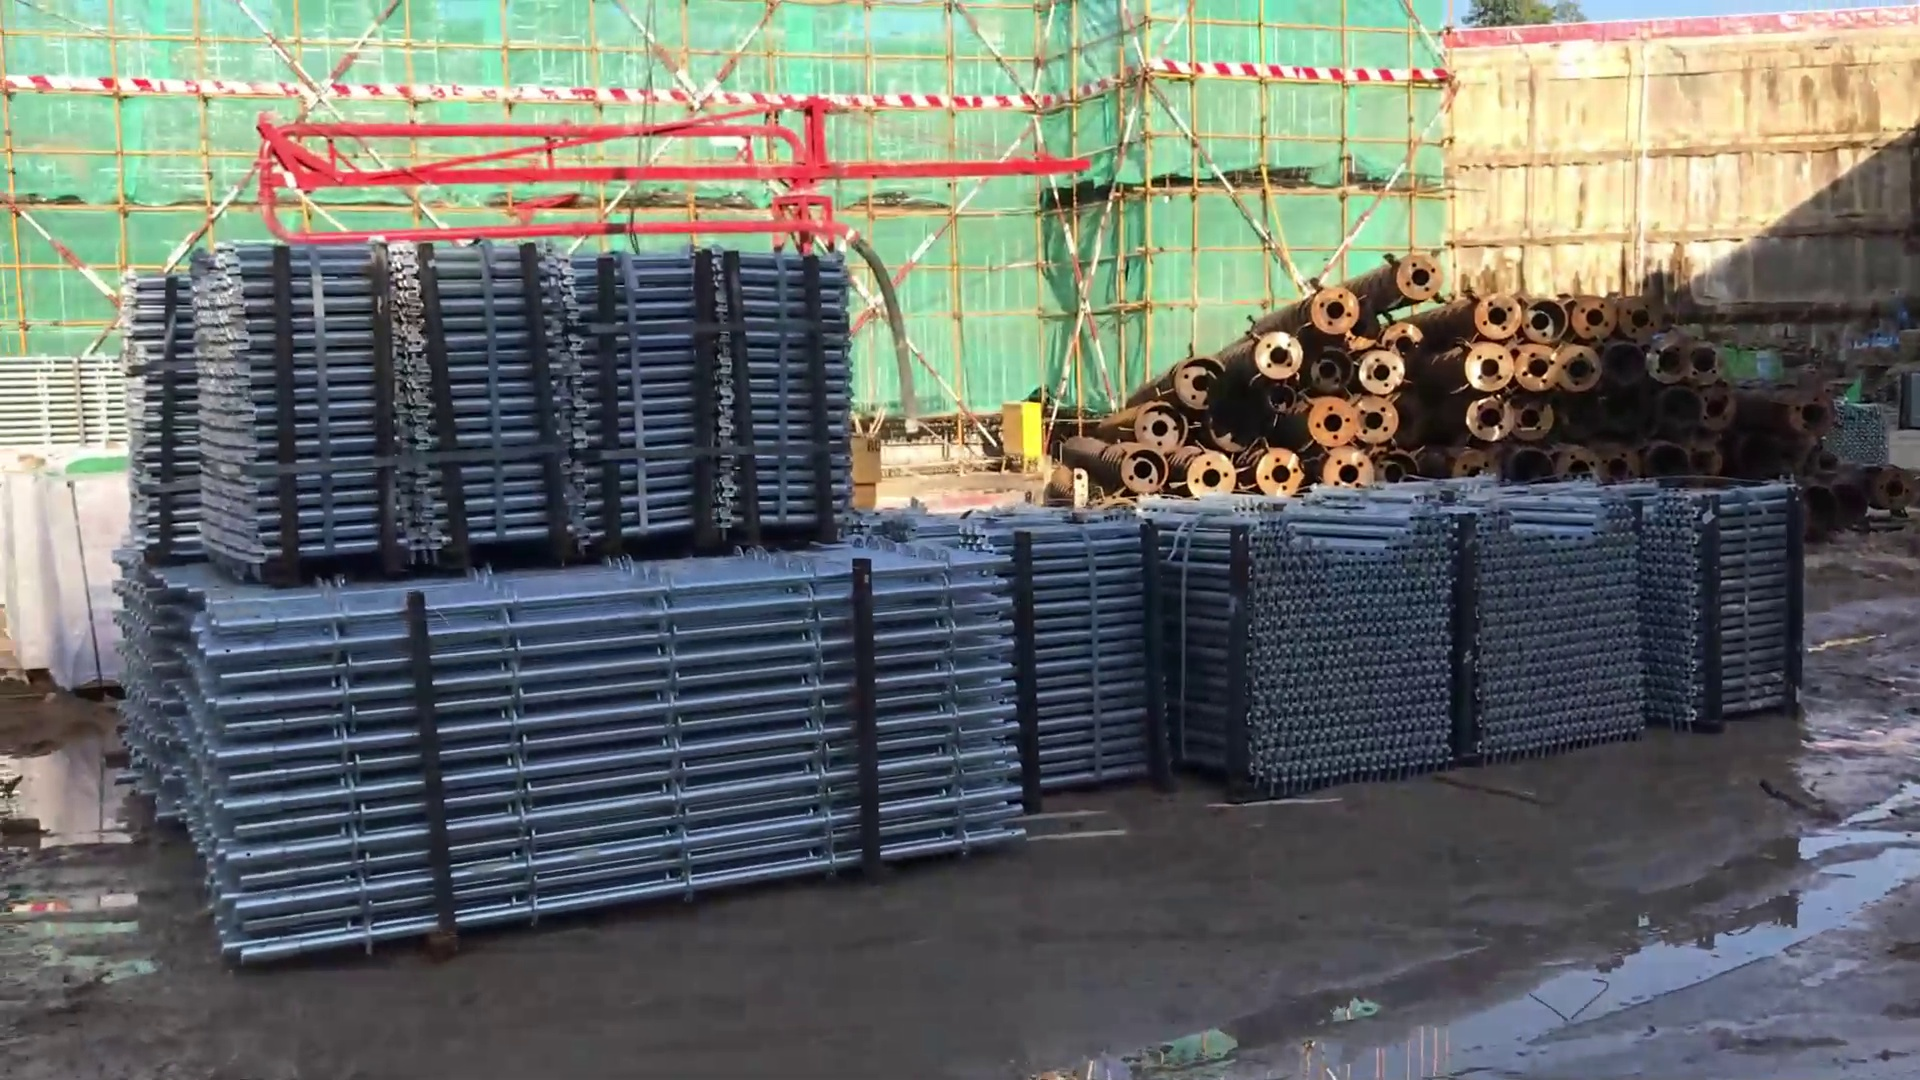ebox: (982, 381, 1069, 475)
scaffold: (123, 564, 1029, 891), (135, 239, 901, 574), (1168, 483, 1464, 786), (1443, 468, 1658, 775), (1004, 508, 1199, 819), (1640, 467, 1811, 748)
